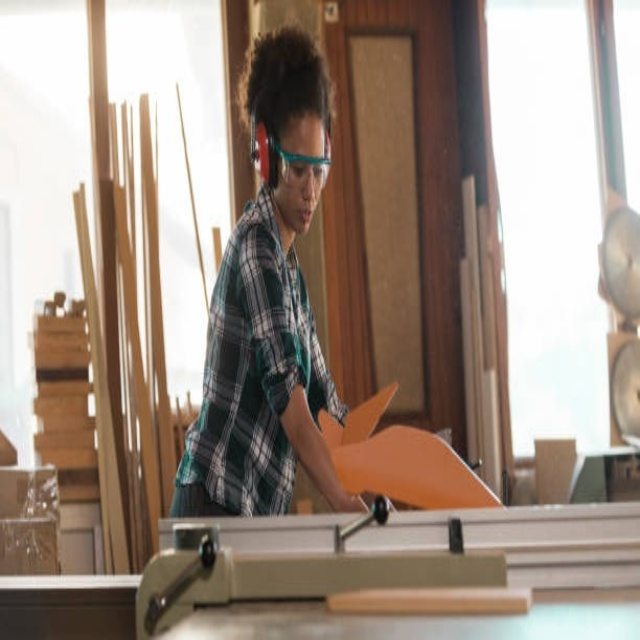Gafas: (264, 123, 332, 192)
Sin_mascara: (294, 204, 316, 237)
